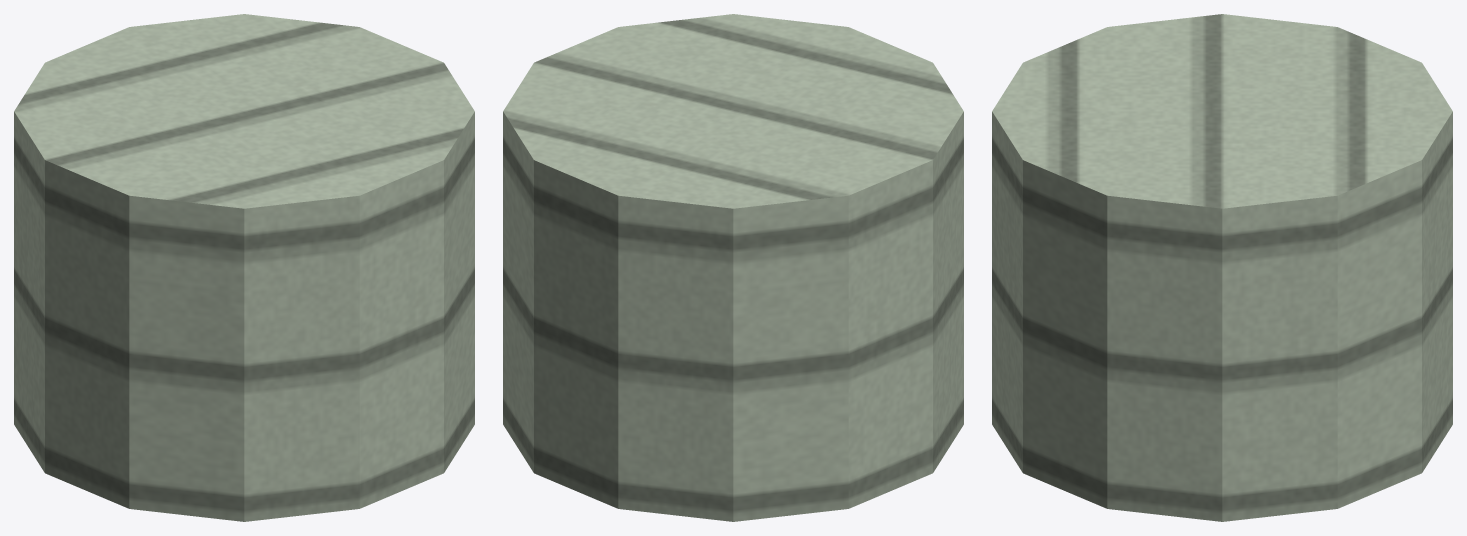
Rendered from water_bowl_bucket_livestock.glb.
3 views of the same model, side by side, from view 1: azimuth 30°, elevation 25°; view 2: azimuth 150°, elevation 25°; view 3: azimuth 270°, elevation 25° (orthographic).
Parts seen in each view (by area): view 1: water_bowl_bucket_livestock-col; view 2: water_bowl_bucket_livestock-col; view 3: water_bowl_bucket_livestock-col.
Part boxes in pixels (x1,y1,x2,y2): water_bowl_bucket_livestock-col: [14, 14, 474, 521]; water_bowl_bucket_livestock-col: [503, 14, 963, 521]; water_bowl_bucket_livestock-col: [992, 14, 1452, 521].
Size of the model in its own units: 0.4 by 0.3 by 0.4.
1 material, 1 textured.
